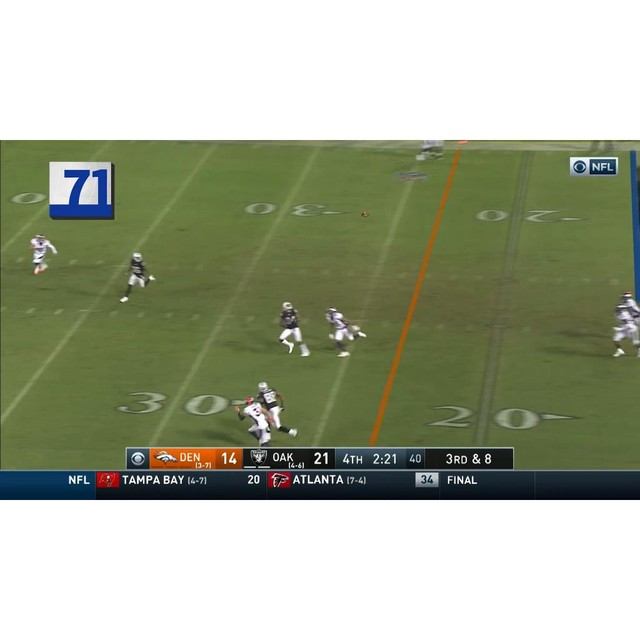american-football-player: (257, 381, 298, 441), (325, 306, 368, 358), (119, 252, 157, 303), (234, 395, 272, 446), (277, 302, 310, 357), (611, 301, 640, 360), (29, 232, 58, 275)
